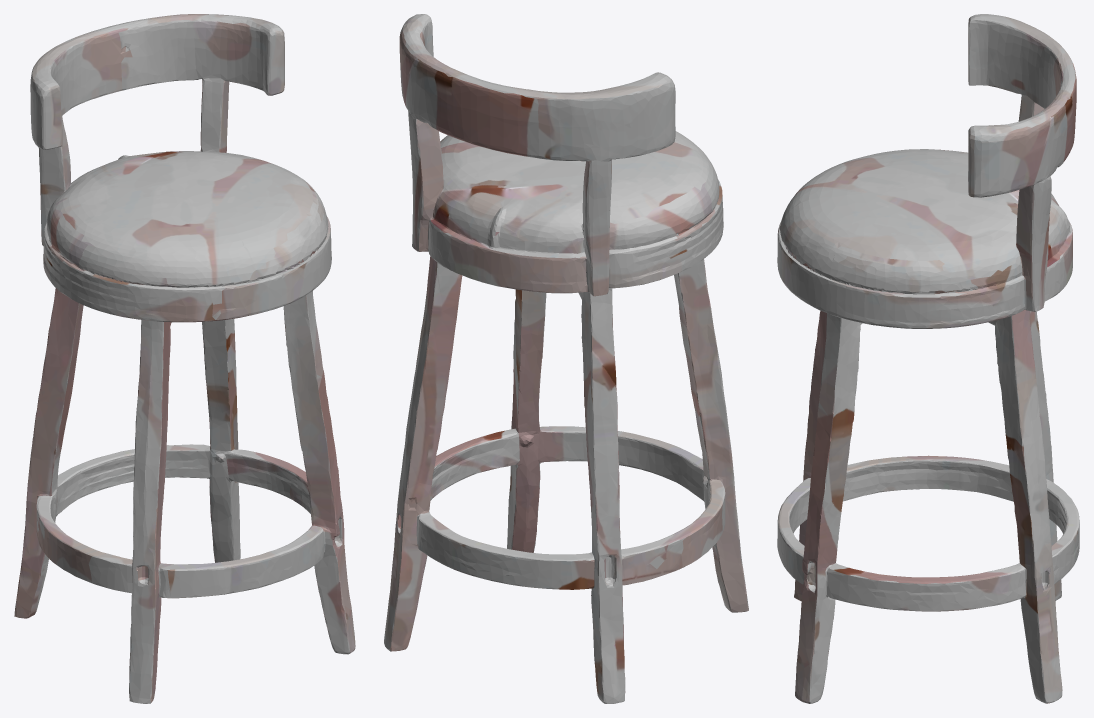
File: chair.obj
3 views of the same model, side by side, from view 1: azimuth 30°, elevation 25°; view 2: azimuth 150°, elevation 25°; view 3: azimuth 270°, elevation 25° (orthographic). The views are drawn at different scales.
Bounding box in the file's own units: 0.3315 × 0.6976 × 0.3308.
